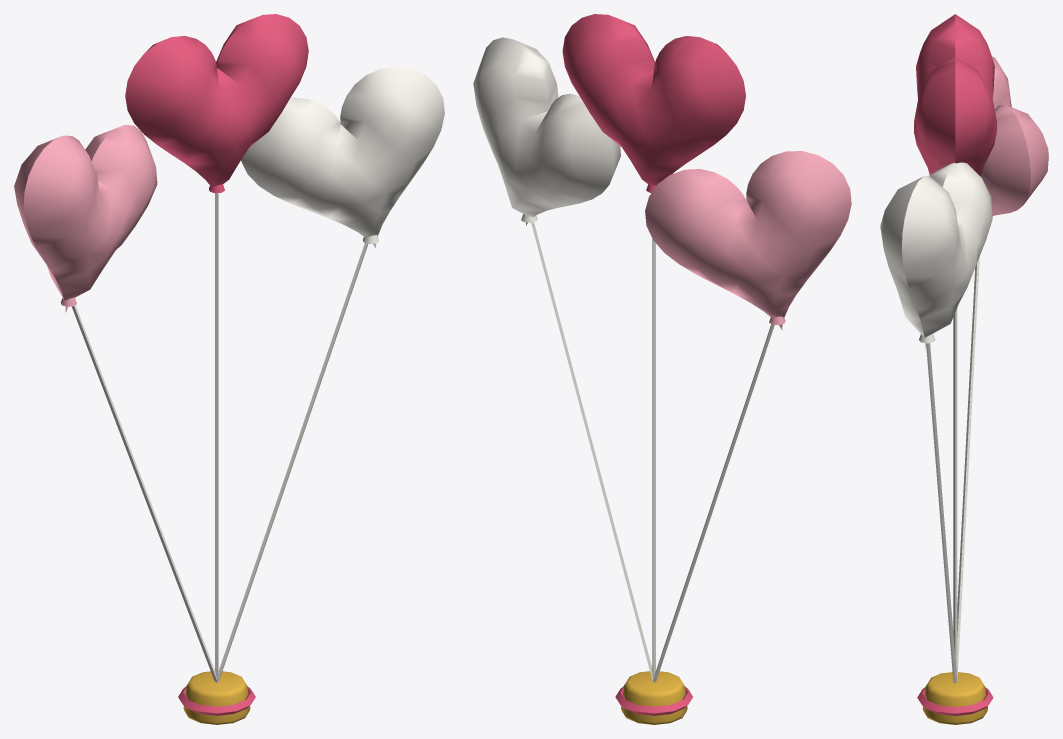
Rendered from baloes_coracao.glb.
3 views of the same model, side by side, from view 1: azimuth 30°, elevation 25°; view 2: azimuth 150°, elevation 25°; view 3: azimuth 270°, elevation 25° (orthographic). The views are drawn at different scales.
Parts seen in each view (by area): view 1: Baloes_Coracao; view 2: Baloes_Coracao; view 3: Baloes_Coracao.
Part boxes in pixels (x1,y1,x2,y2): Baloes_Coracao: [14, 14, 444, 724]; Baloes_Coracao: [473, 14, 851, 724]; Baloes_Coracao: [880, 14, 1048, 724].
Size of the model in its own units: 1.08 by 1.79 by 0.406.
